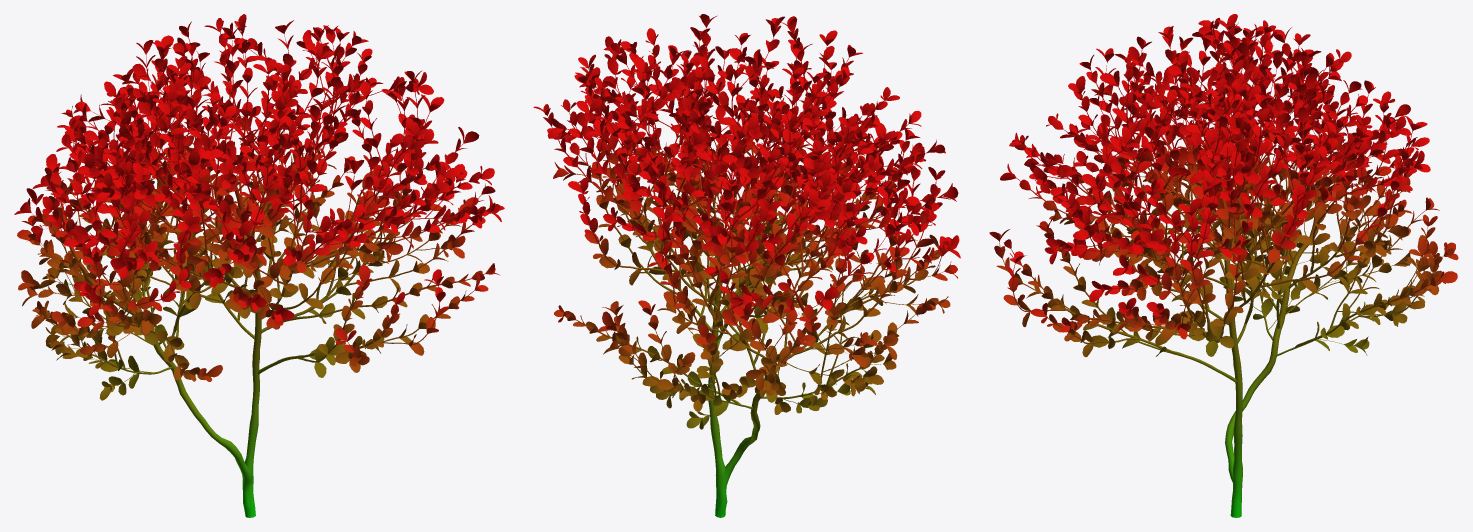
Rendered from Var2_LOD0.fbx.
The picture shows the model from 3 angles, left to right: view 1: azimuth 30°, elevation 25°; view 2: azimuth 150°, elevation 25°; view 3: azimuth 270°, elevation 25°; orthographic projection.
Visible parts, largest first — view 1: _t14r_Var2_LOD0; view 2: _t14r_Var2_LOD0; view 3: _t14r_Var2_LOD0.
Boxes of the visible parts, x1,y1,x2,y2 form: _t14r_Var2_LOD0: [14, 14, 504, 517]; _t14r_Var2_LOD0: [533, 14, 960, 517]; _t14r_Var2_LOD0: [989, 14, 1458, 517].
Bounding box in the file's own units: 69.77 × 78.22 × 70.09.
